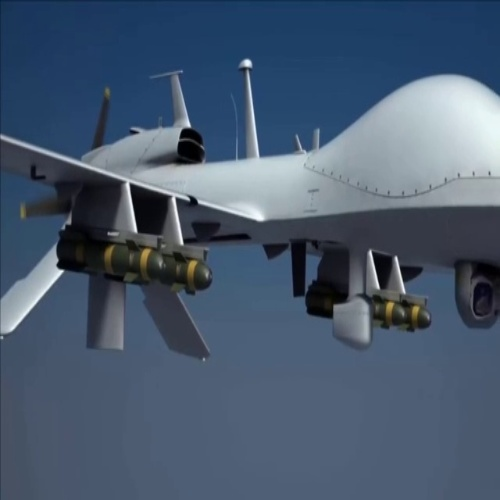uav804: (4, 60, 500, 368)
